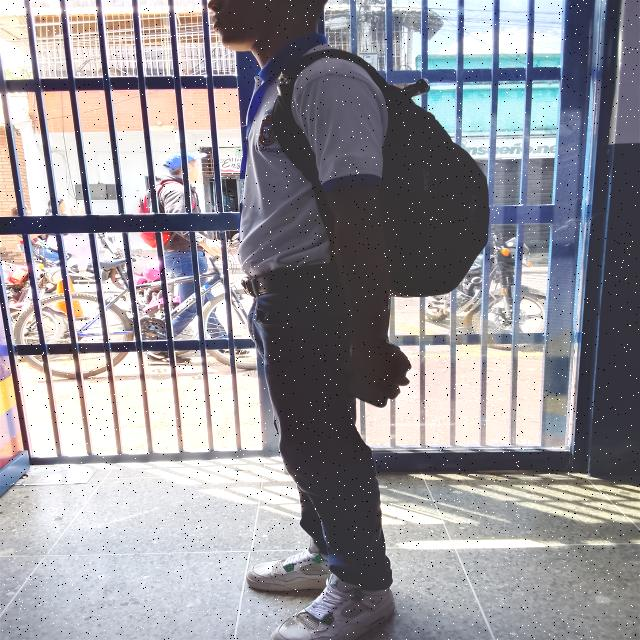uniforme_superior: (239, 32, 389, 280)
